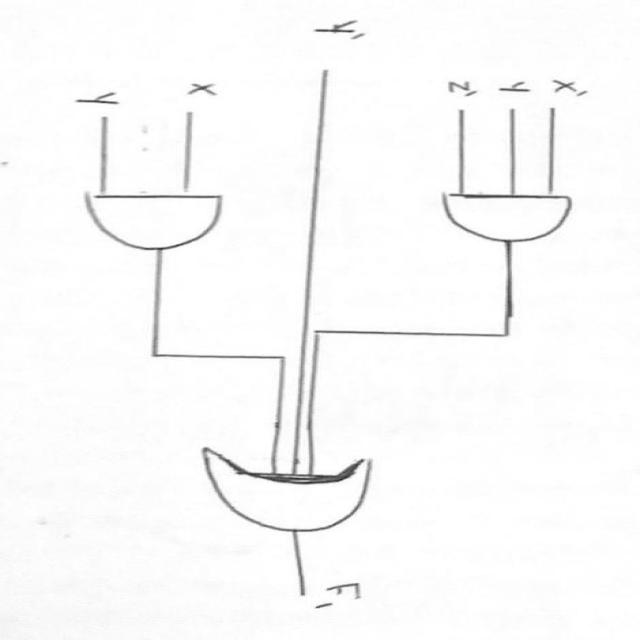AND: (62, 179, 236, 256), (430, 176, 588, 253)
OR: (196, 441, 390, 551)
